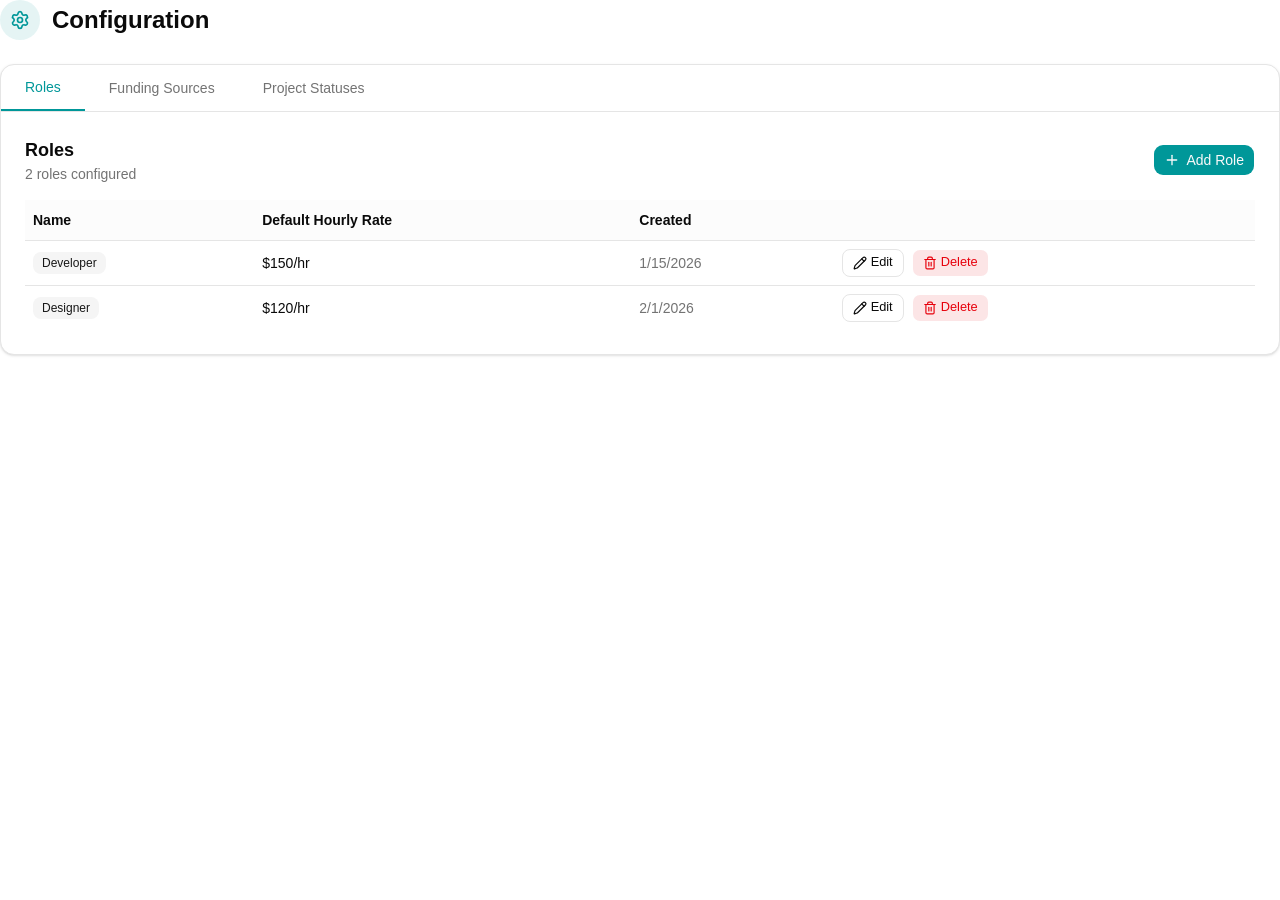
ConfigurationPage › should open role creation form when Add Role is clicked
What coordinates should you click on to do the following:
click the button with test id "role-create-button"
I would click on:
 (1204, 160)
Its box is [1153,144,1255,176].
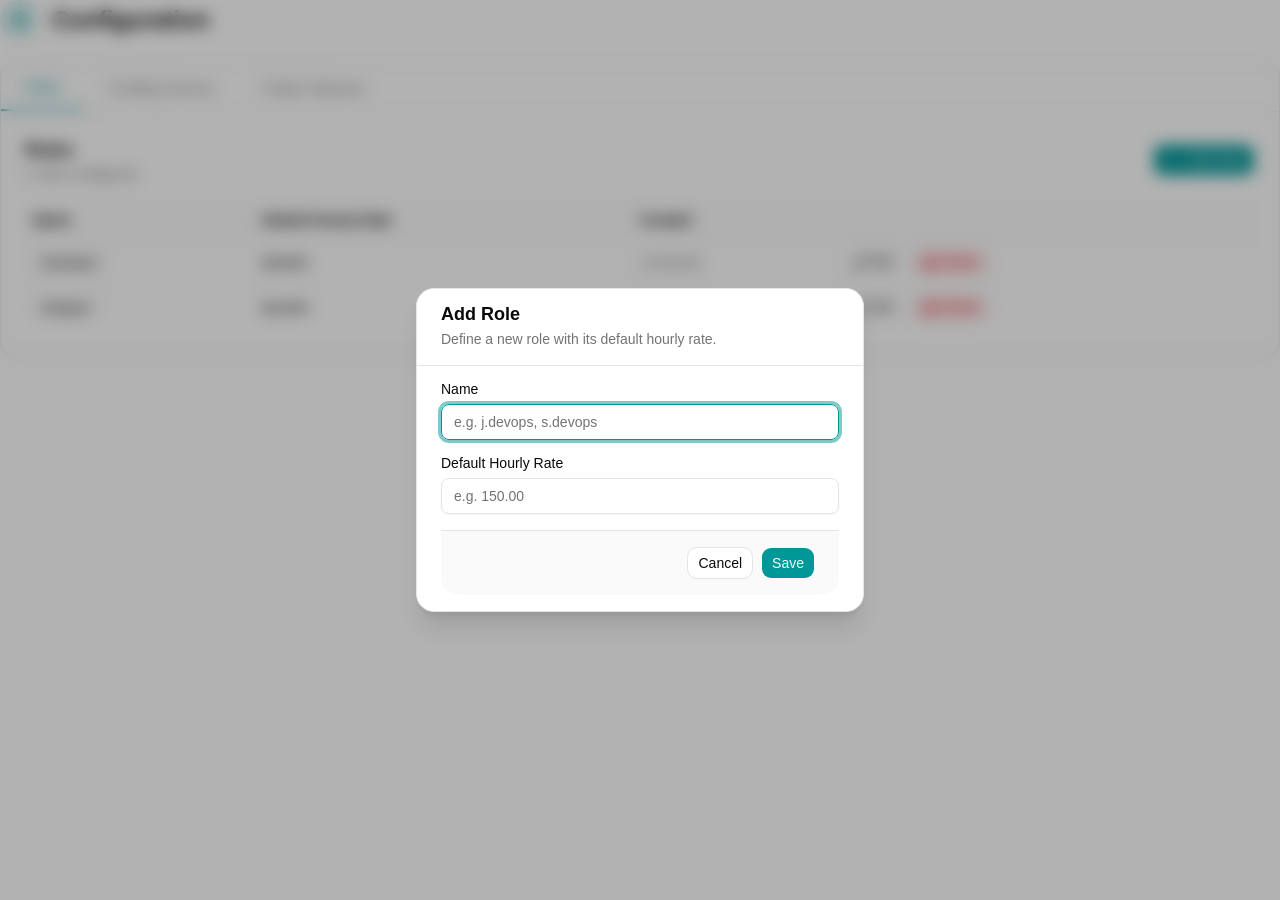
Check: the heading with test id "role-form-title" reads "Add Role", box [441,304,520,324]
Check: the field with test id "role-name-input" is shown, box [441,404,839,440]
Check: the number field with test id "role-rate-input" is shown, box [441,478,839,514]
